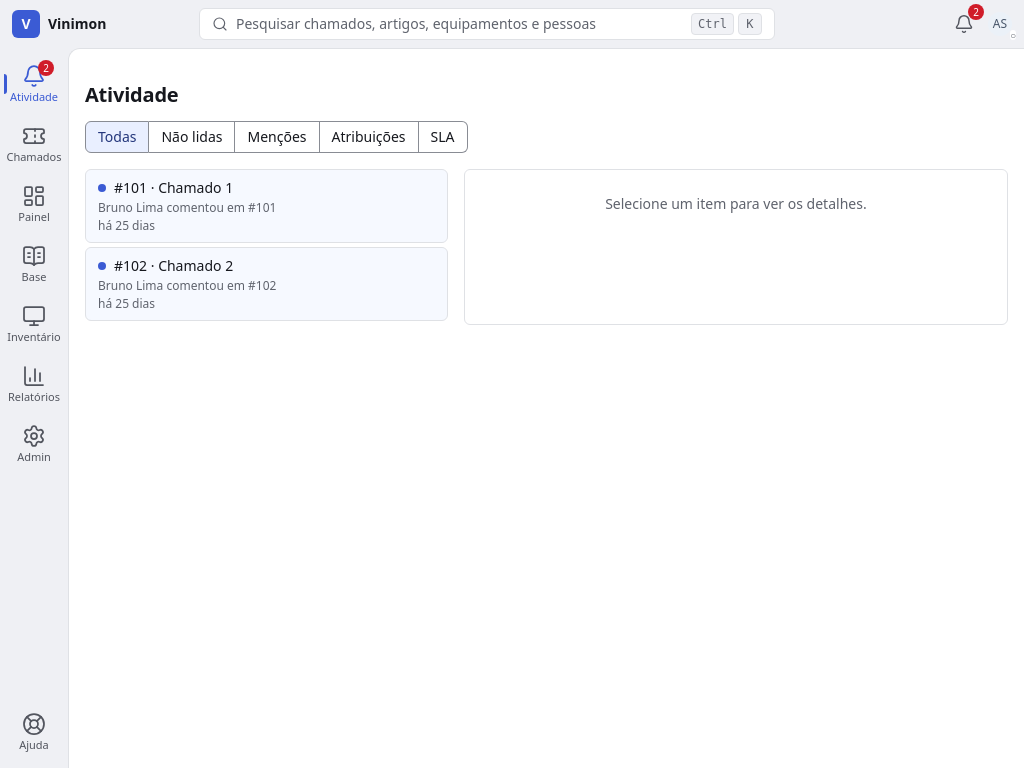
Test: /atividade › renderiza os itens, marca como lida ao clicar e o contador do sino diminui
The width and height of the screenshot is (1024, 768).
expect the text "#102 · Chamado 2" is shown: met, box [114,256,233,276]
expect the number of pictures named "Não lida" is 2: met, box [98,184,106,192]; [98,262,106,270]
Click the text "#101 · Chamado 1".
click(174, 188)  # box [114,178,233,198]
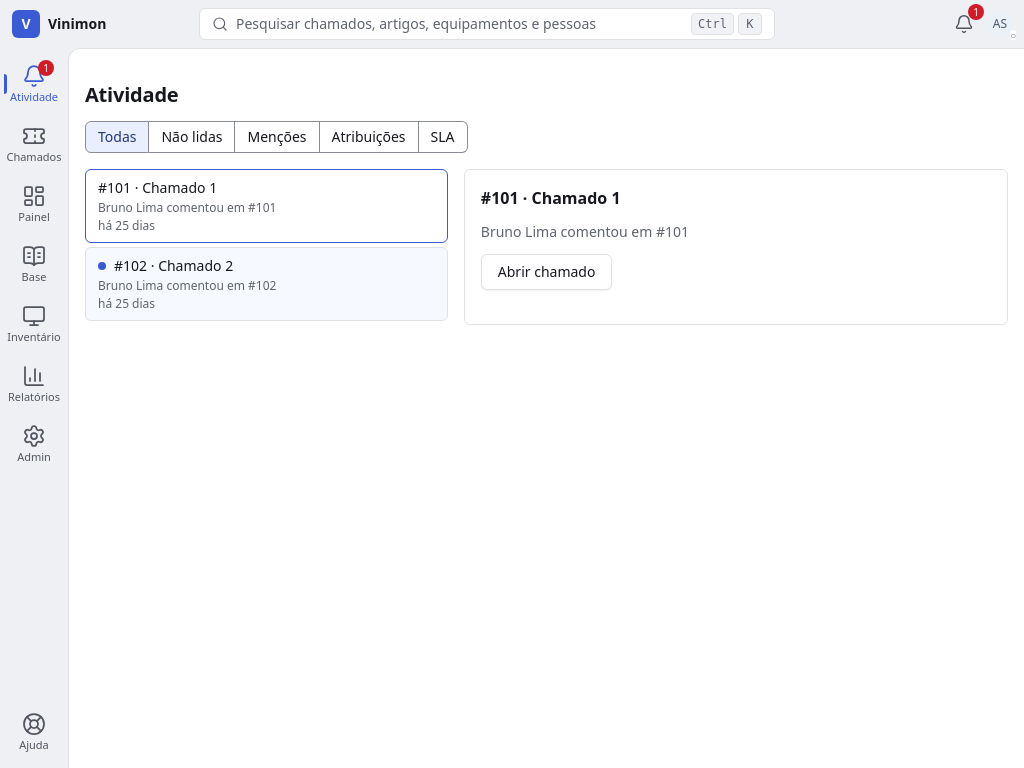
expect the number of pictures named "Não lida" is 1: met, box [98,262,106,270]
expect the button named "Notificações, 1 não lidas" is shown: met, box [948,8,980,40]
expect the link "Abrir chamado" is shown: met, box [481,254,612,290]
